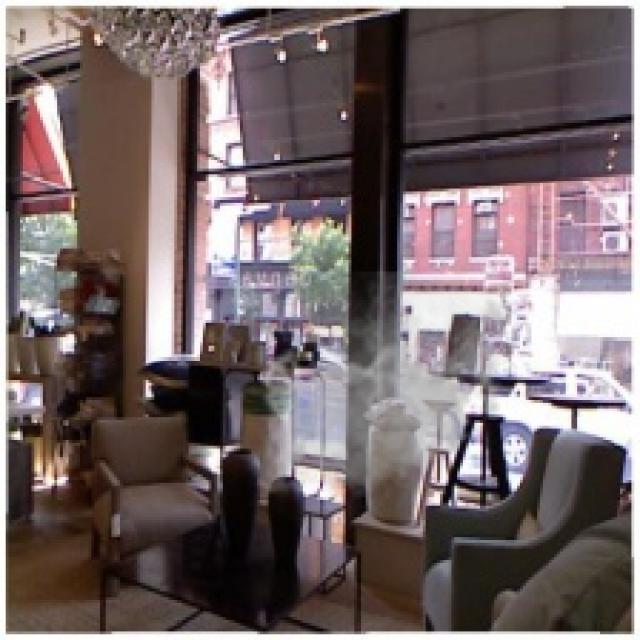Smoke: (257, 271, 517, 506)
